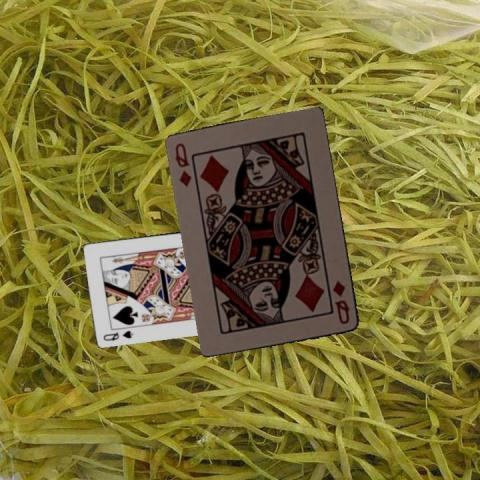Qd: (330, 278, 351, 326), (173, 141, 193, 189)
Qs: (100, 327, 134, 342)
